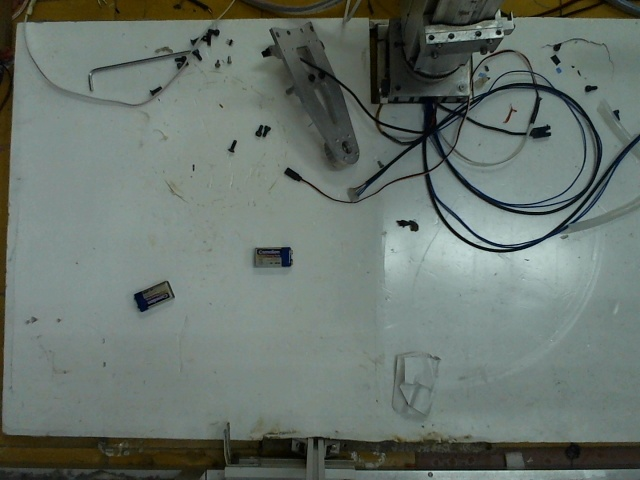battery: (131, 276, 172, 310), (249, 238, 290, 264)
